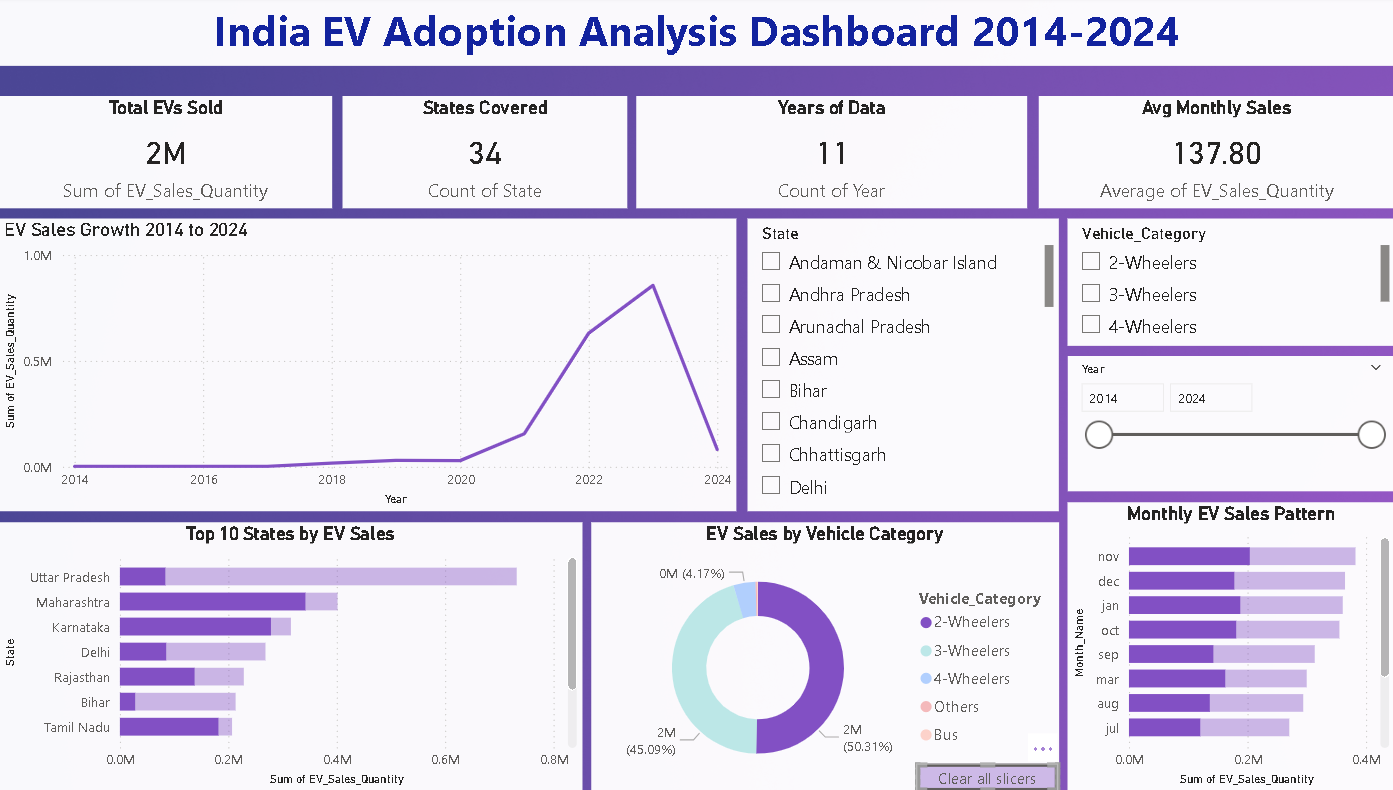

This screenshot's page, from the dashboard's own definition file:
{"tool":"powerbi","page":{"name":"Page 1","canvas":[1280,720],"ordinal":0},"visuals":[{"type":"card","title":"Total EVs Sold","fields":{"Values":["Sum(EV_Dataset.EV_Sales_Quantity)"]},"box":[7.9,90.5,301.9,101.8],"z":0},{"type":"card","title":"States Covered","fields":{"Values":["Count(EV_Dataset.State)"]},"box":[318.8,90.5,257.8,101.8],"z":1},{"type":"card","title":"Years of Data","fields":{"Values":["Count(EV_Dataset.Year)"]},"box":[584.6,90.5,353.9,101.8],"z":2},{"type":"card","title":"Avg Monthly Sales","fields":{"Values":["Avg(EV_Dataset.EV_Sales_Quantity)"]},"box":[948.6,90.5,322.2,101.8],"z":3},{"type":"lineChart","title":"EV Sales Growth 2014 to 2024","fields":{"Category":["EV_Dataset.Year"],"Y":["Sum(EV_Dataset.EV_Sales_Quantity)"]},"box":[7.9,201.3,667.1,264.6],"z":4},{"type":"barChart","title":"Top 10 States by EV Sales","fields":{"Category":["EV_Dataset.State"],"Y":["Sum(EV_Dataset.EV_Sales_Quantity)"]},"box":[7.9,476,528,243.1],"z":5},{"type":"textbox","box":[7.9,0,1262.9,63.3],"z":6},{"type":"donutChart","title":"EV Sales by Vehicle Category","fields":{"Category":["EV_Dataset.Vehicle_Category"],"Y":["Sum(EV_Dataset.EV_Sales_Quantity)"]},"box":[543.8,476,422.9,244.2],"z":7},{"type":"barChart","title":"Monthly EV Sales Pattern","fields":{"Category":["EV_Dataset.Month_Name"],"Y":["Sum(EV_Dataset.EV_Sales_Quantity)"]},"box":[974.6,457.9,296.2,261.2],"z":8},{"type":"slicer","fields":{"Values":["EV_Dataset.Year"]},"box":[974.6,325.6,296.2,122.1],"z":9},{"type":"slicer","fields":{"Values":["EV_Dataset.Vehicle_Category"]},"box":[974.6,201.3,296.2,115.3],"z":10},{"type":"slicer","fields":{"Values":["EV_Dataset.State"]},"box":[685.2,201.3,281.5,264.6],"z":11},{"type":"actionButton","box":[838.2,694.5,128.3,25.1],"z":12}]}

Visuals, with their boxes in screenshot pixels (x1, y1, x2, y2), scaled from the page's 1280x720 canvas onto the 1393x790 screenshot:
"Total EVs Sold" card: 9,99,337,211
"States Covered" card: 347,99,628,211
"Years of Data" card: 636,99,1021,211
"Avg Monthly Sales" card: 1032,99,1383,211
"EV Sales Growth 2014 to 2024" lineChart: 9,221,735,511
"Top 10 States by EV Sales" barChart: 9,522,583,789
textbox: 9,0,1383,69
"EV Sales by Vehicle Category" donutChart: 592,522,1052,789
"Monthly EV Sales Pattern" barChart: 1061,502,1383,789
slicer - EV_Dataset.Year: 1061,357,1383,491
slicer - EV_Dataset.Vehicle_Category: 1061,221,1383,347
slicer - EV_Dataset.State: 746,221,1052,511
actionButton: 912,762,1052,789
